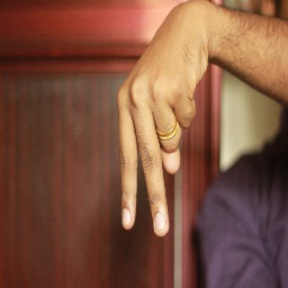Y: (103, 51, 201, 247)
